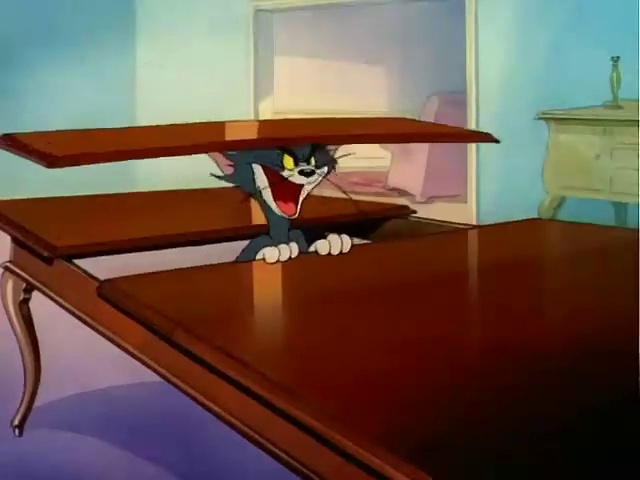tom: (200, 128, 402, 280)
